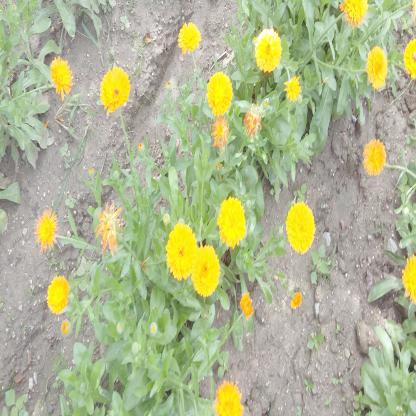marigold: (287, 201, 315, 250), (218, 198, 245, 247), (168, 226, 194, 276), (194, 250, 220, 297), (102, 69, 128, 112), (207, 70, 232, 114), (257, 28, 280, 71), (50, 58, 72, 97), (364, 138, 386, 176), (217, 384, 243, 416), (367, 50, 387, 88), (34, 212, 57, 245), (46, 278, 68, 312), (179, 22, 201, 53), (286, 75, 301, 103)
